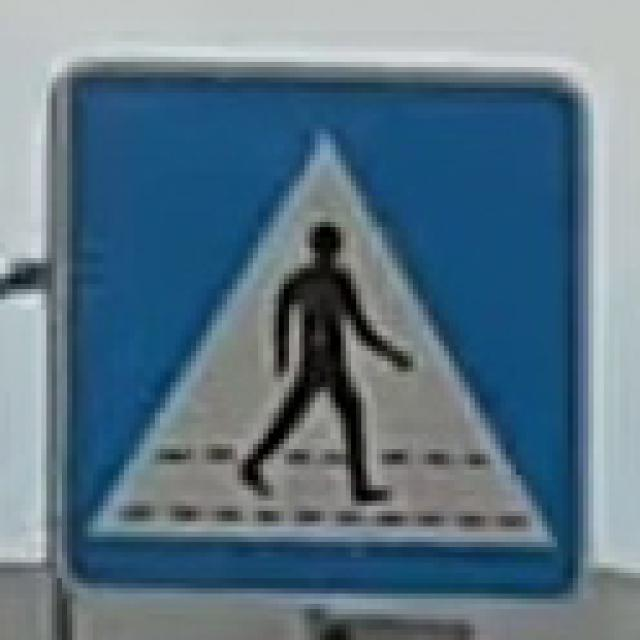zebracrossing_sign: (36, 46, 594, 599)
